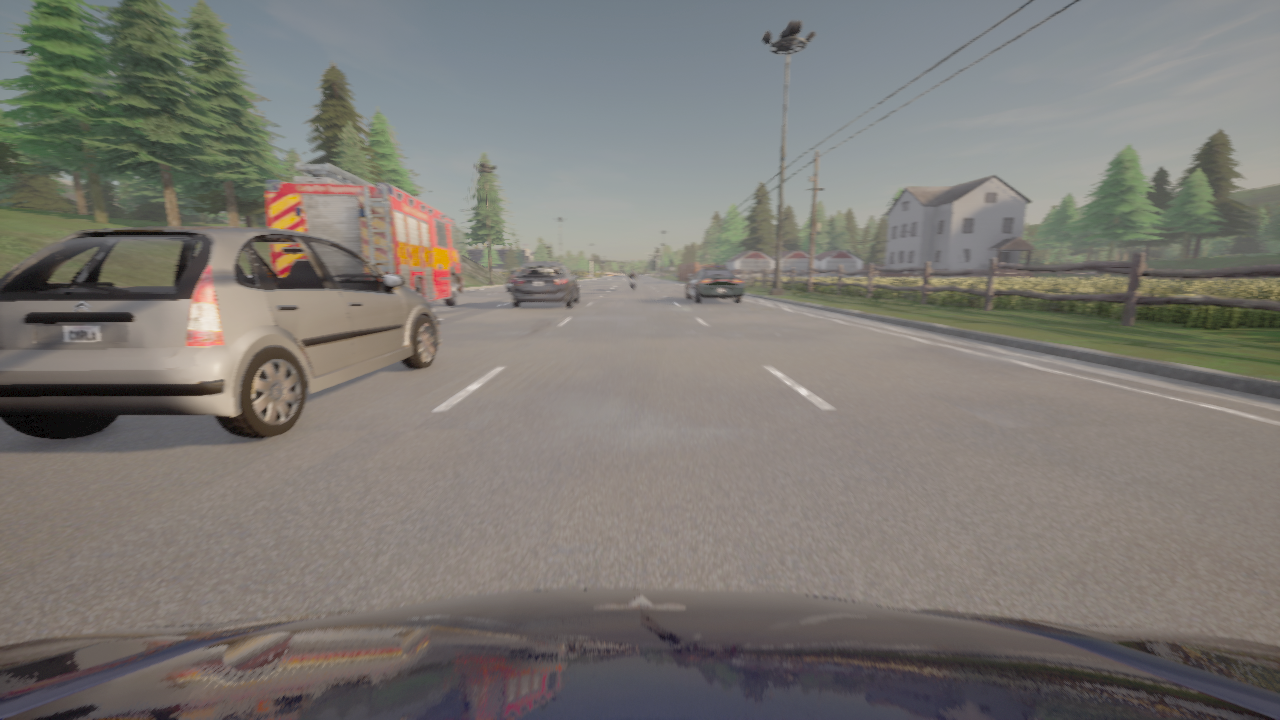cyclist: (0, 588, 1279, 719), (0, 227, 440, 439), (266, 163, 465, 305), (511, 262, 578, 307), (686, 266, 744, 302), (505, 268, 518, 292), (629, 275, 636, 290), (643, 273, 645, 274)
